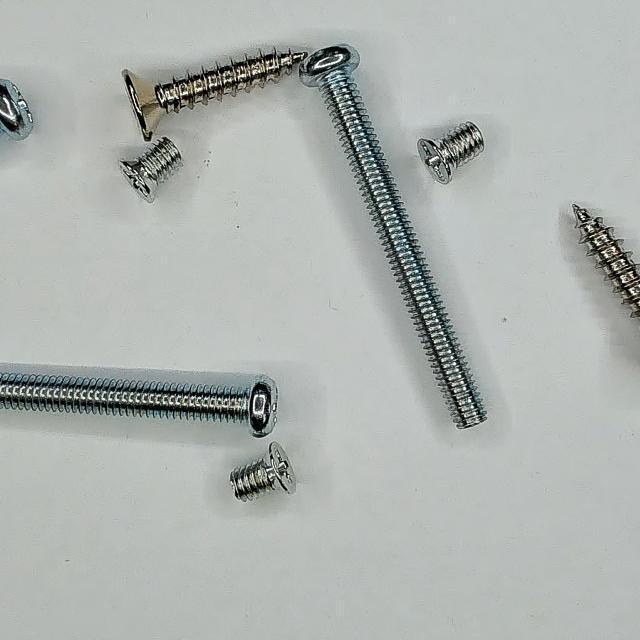Screw: (300, 44, 487, 429), (0, 364, 278, 438), (122, 49, 308, 140), (574, 204, 640, 318), (418, 121, 485, 184), (119, 137, 182, 202), (231, 444, 296, 502)
